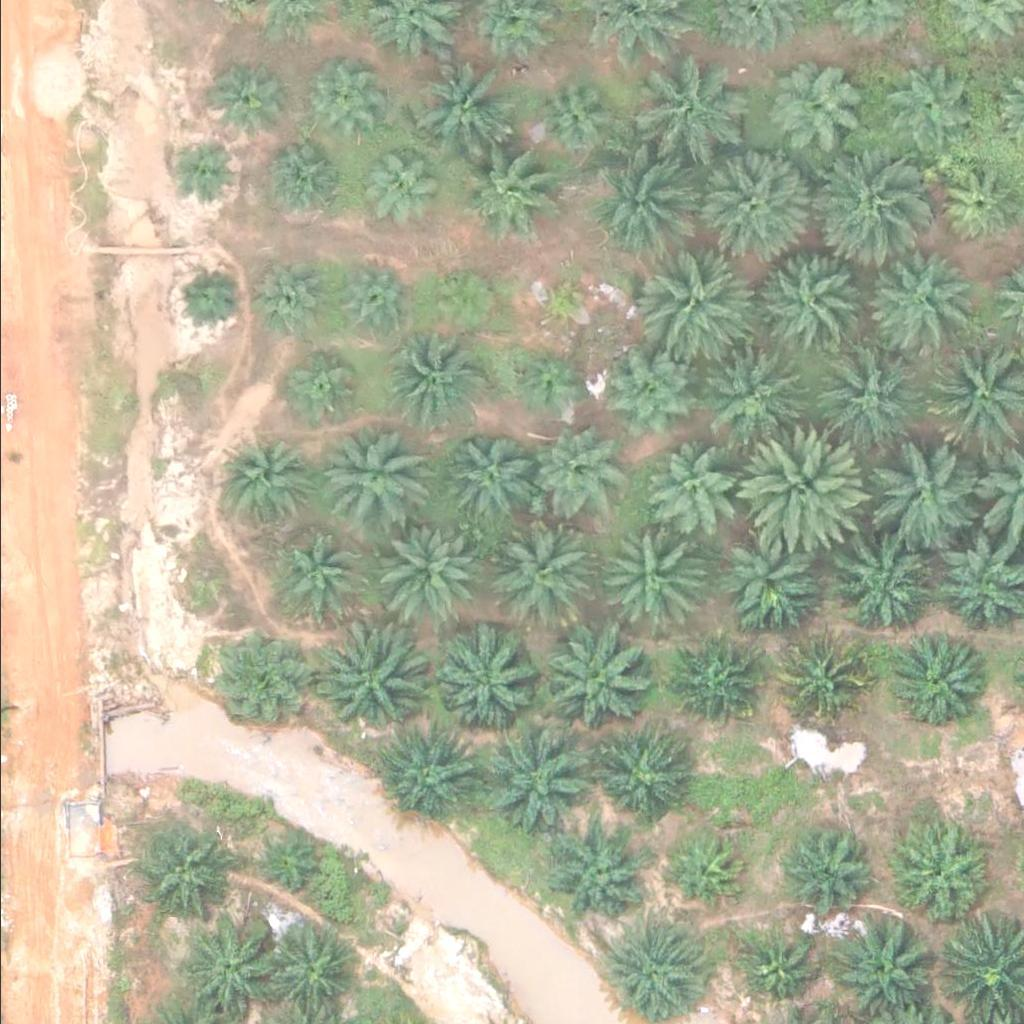Kelapa_Sawit: (737, 431, 863, 556), (871, 433, 985, 546), (484, 722, 597, 835), (540, 623, 653, 736), (429, 627, 542, 740), (812, 339, 925, 452), (757, 246, 870, 359), (696, 143, 809, 256), (593, 143, 707, 255), (317, 626, 430, 738), (856, 239, 969, 351), (639, 244, 752, 356), (805, 141, 918, 253), (833, 913, 934, 1013), (256, 919, 357, 1019), (375, 721, 476, 821), (130, 821, 231, 921), (891, 633, 992, 733), (202, 629, 303, 729), (832, 540, 933, 640), (595, 526, 696, 626), (483, 521, 584, 621), (375, 517, 476, 617), (703, 343, 804, 443), (602, 345, 703, 445), (454, 137, 555, 237), (405, 51, 506, 151), (633, 51, 734, 151), (388, 336, 489, 436), (599, 921, 699, 1021), (177, 914, 277, 1014), (891, 824, 991, 924), (546, 827, 646, 927), (726, 525, 826, 625), (324, 428, 424, 528), (768, 58, 868, 158), (786, 821, 874, 909), (591, 732, 679, 820), (780, 632, 868, 720), (528, 425, 616, 513), (245, 250, 333, 338), (931, 158, 1019, 246), (529, 72, 617, 160), (440, 428, 529, 515), (880, 58, 969, 145), (672, 635, 760, 722), (270, 535, 358, 622), (221, 437, 309, 524), (648, 443, 736, 530), (326, 260, 414, 347), (355, 143, 431, 218), (267, 145, 343, 220), (507, 344, 583, 419), (667, 833, 743, 908), (420, 263, 496, 338), (286, 351, 361, 426), (301, 63, 376, 138), (201, 61, 276, 136), (742, 928, 817, 1003), (244, 827, 319, 902), (172, 134, 235, 197), (176, 267, 239, 329), (532, 270, 595, 332)
